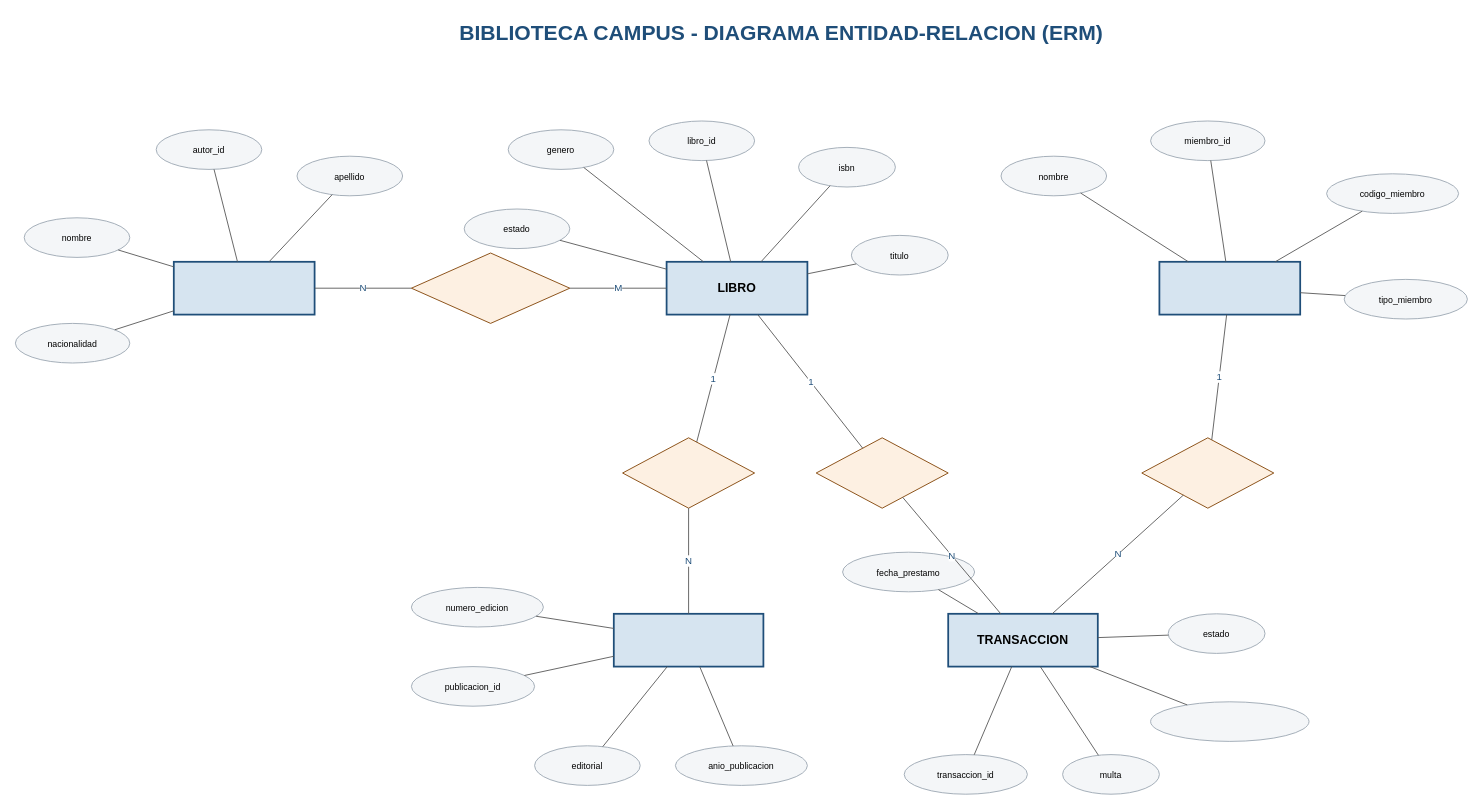
Some shapes in this 1483 by 810 pixel diagram are drawn without their labels. Here are the shapes that lost their labels. From the top down, the centre of each, then its label:
(x=243, y=287): AUTOR
(x=490, y=287): ESCRIBE (LibroAutor)
(x=1229, y=287): MIEMBRO
(x=688, y=472): TIENE EDICION
(x=881, y=472): REGISTRA
(x=1207, y=472): REALIZA
(x=688, y=639): PUBLICACION
(x=1229, y=721): fecha_devolucion_real
